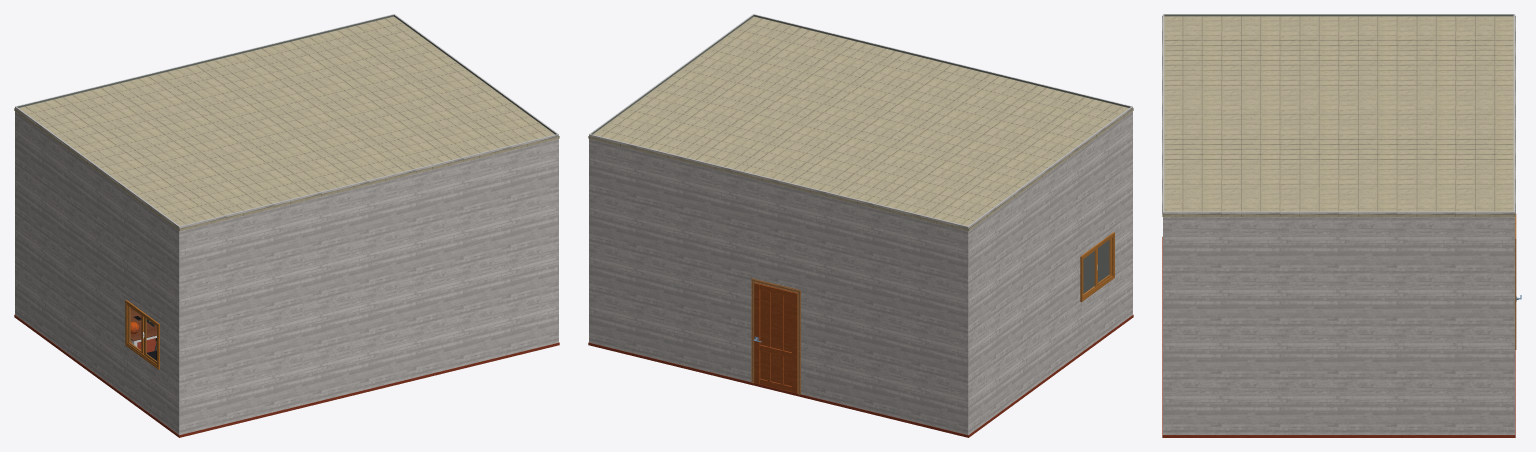
File: ProcTHOR-Train-129.glb
3 views of the same model, side by side, from view 1: azimuth 30°, elevation 25°; view 2: azimuth 150°, elevation 25°; view 3: azimuth 270°, elevation 25° (orthographic). The views are drawn at different scales.
Parts seen in each view (by area): view 1: WallInside#wall|exterior|0.00|6.00|7.99|6.00, Ceiling#room|2|c, WallInside#wall|exterior|7.99|0.00|7.99|6.00, Floor#room|2|f, WallInside#wall|2|0.00|0.00|7.99|0.00, Window_Slider_48x36; view 2: WallInside#wall|exterior|0.00|0.00|7.99|0.00, Ceiling#room|2|c, WallInside#wall|exterior|7.99|0.00|7.99|6.00, Doorway_10, WallInside#wall|2|0.00|6.00|7.99|6.00, Floor#room|2|f, Window_Slider_48x36; view 3: WallInside#wall|exterior|0.00|0.00|0.00|6.00, Ceiling#room|2|c, Floor#room|2|f, WallInside#wall|2|7.99|0.00|7.99|6.00, WallInside#wall|2|0.00|0.00|7.99|0.00, WallInside#wall|2|0.00|6.00|7.99|6.00, WallInside#wall|2|0.00|0.00|0.00|6.00, WallInside#wall|exterior|7.99|0.00|7.99|6.00.
Boxes of the visible parts, x1,y1,x2,y2 form: WallInside#wall|exterior|0.00|6.00|7.99|6.00: (179,134,558,434); Ceiling#room|2|c: (14,16,559,231); WallInside#wall|exterior|7.99|0.00|7.99|6.00: (15,107,179,434); Floor#room|2|f: (14,314,559,437); WallInside#wall|2|0.00|0.00|7.99|0.00: (15,14,394,107); Window_Slider_48x36: (125,300,159,369); WallInside#wall|exterior|0.00|0.00|7.99|0.00: (589,134,968,434); Ceiling#room|2|c: (588,16,1133,231); WallInside#wall|exterior|7.99|0.00|7.99|6.00: (968,107,1132,434); Doorway_10: (751,278,800,394); WallInside#wall|2|0.00|6.00|7.99|6.00: (754,14,1132,293); Floor#room|2|f: (588,314,1133,437); Window_Slider_48x36: (1080,232,1114,302); WallInside#wall|exterior|0.00|0.00|0.00|6.00: (1163,212,1514,434); Ceiling#room|2|c: (1162,15,1515,216); Floor#room|2|f: (1162,236,1515,437); WallInside#wall|2|7.99|0.00|7.99|6.00: (1164,14,1514,16); WallInside#wall|2|0.00|0.00|7.99|0.00: (1513,14,1514,211); WallInside#wall|2|0.00|6.00|7.99|6.00: (1163,14,1164,211); WallInside#wall|2|0.00|0.00|0.00|6.00: (1163,211,1514,211); WallInside#wall|exterior|7.99|0.00|7.99|6.00: (1163,14,1513,14).
Bounding box in the file's own units: 8.05 × 4.25 × 6.14.
117 materials, 47 textured.
